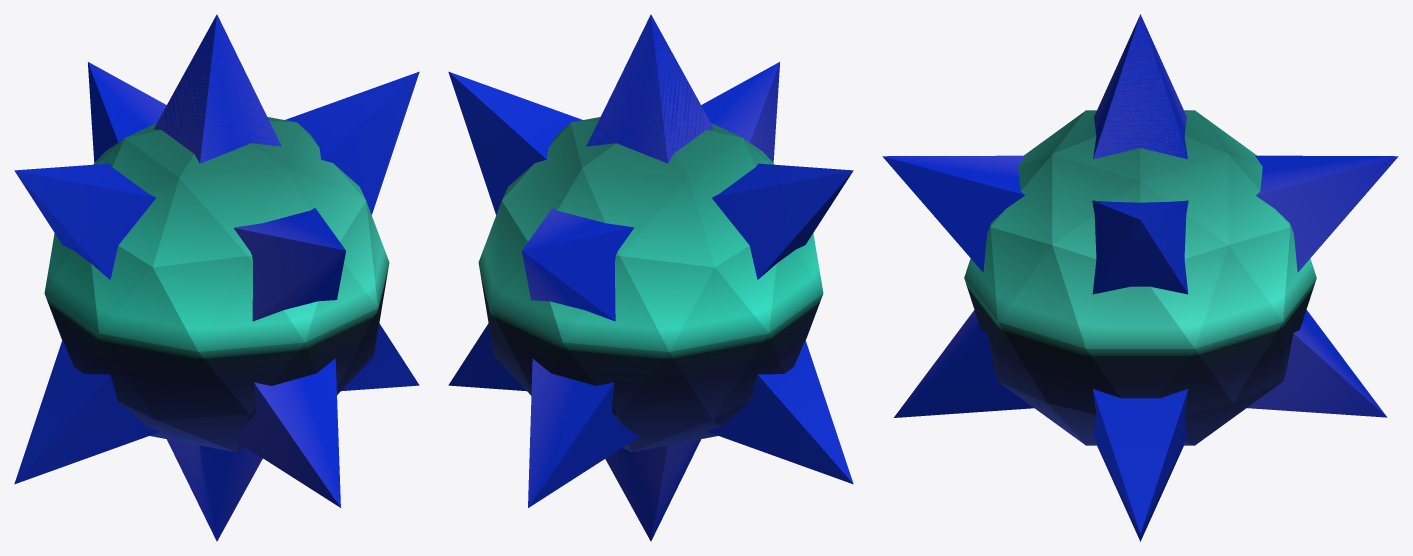
The model's file is MagickShpere.fbx.
3 renders of one model, left to right at view 1: azimuth 30°, elevation 25°; view 2: azimuth 150°, elevation 25°; view 3: azimuth 270°, elevation 25°, orthographic.
Visible parts, largest first — view 1: Plane; view 2: Plane; view 3: Plane.
Part boxes in pixels (x1=…): Plane: x1=14, y1=14, x2=419, y2=541; Plane: x1=448, y1=14, x2=853, y2=541; Plane: x1=882, y1=14, x2=1398, y2=541.
Bounding box in the file's own units: 4.69 × 5.83 × 5.18.
